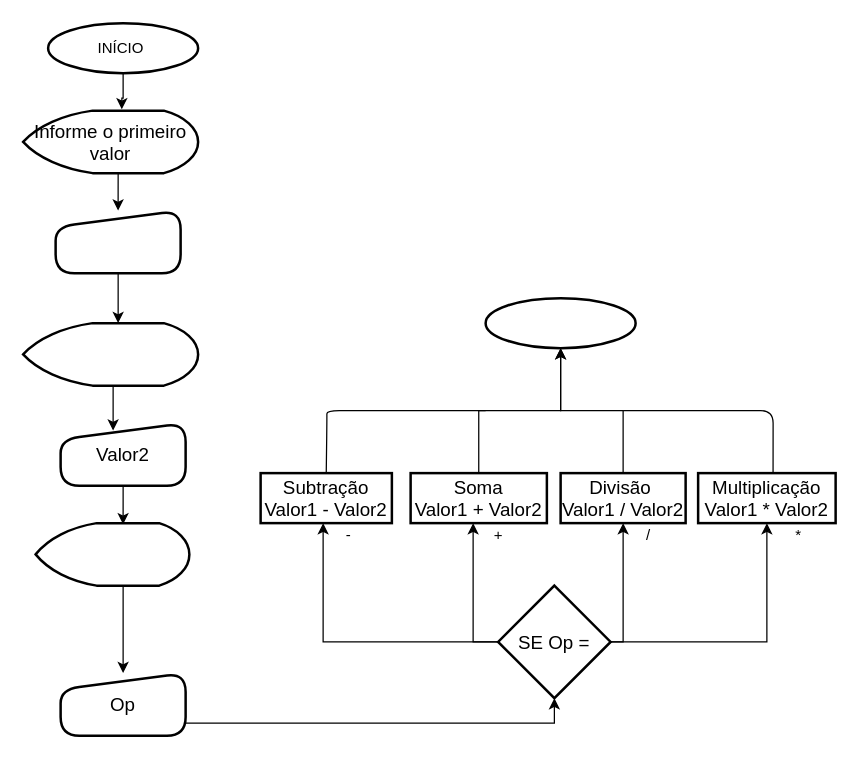
This 858x758 diagram has some shape labels left out. The centre of each missing label's shape, as x and y in pixels:
FIM: (560,322)
Informe o operador: (112,553)
Informe o segundo valor: (110,353)
Valor1: (117,241)
